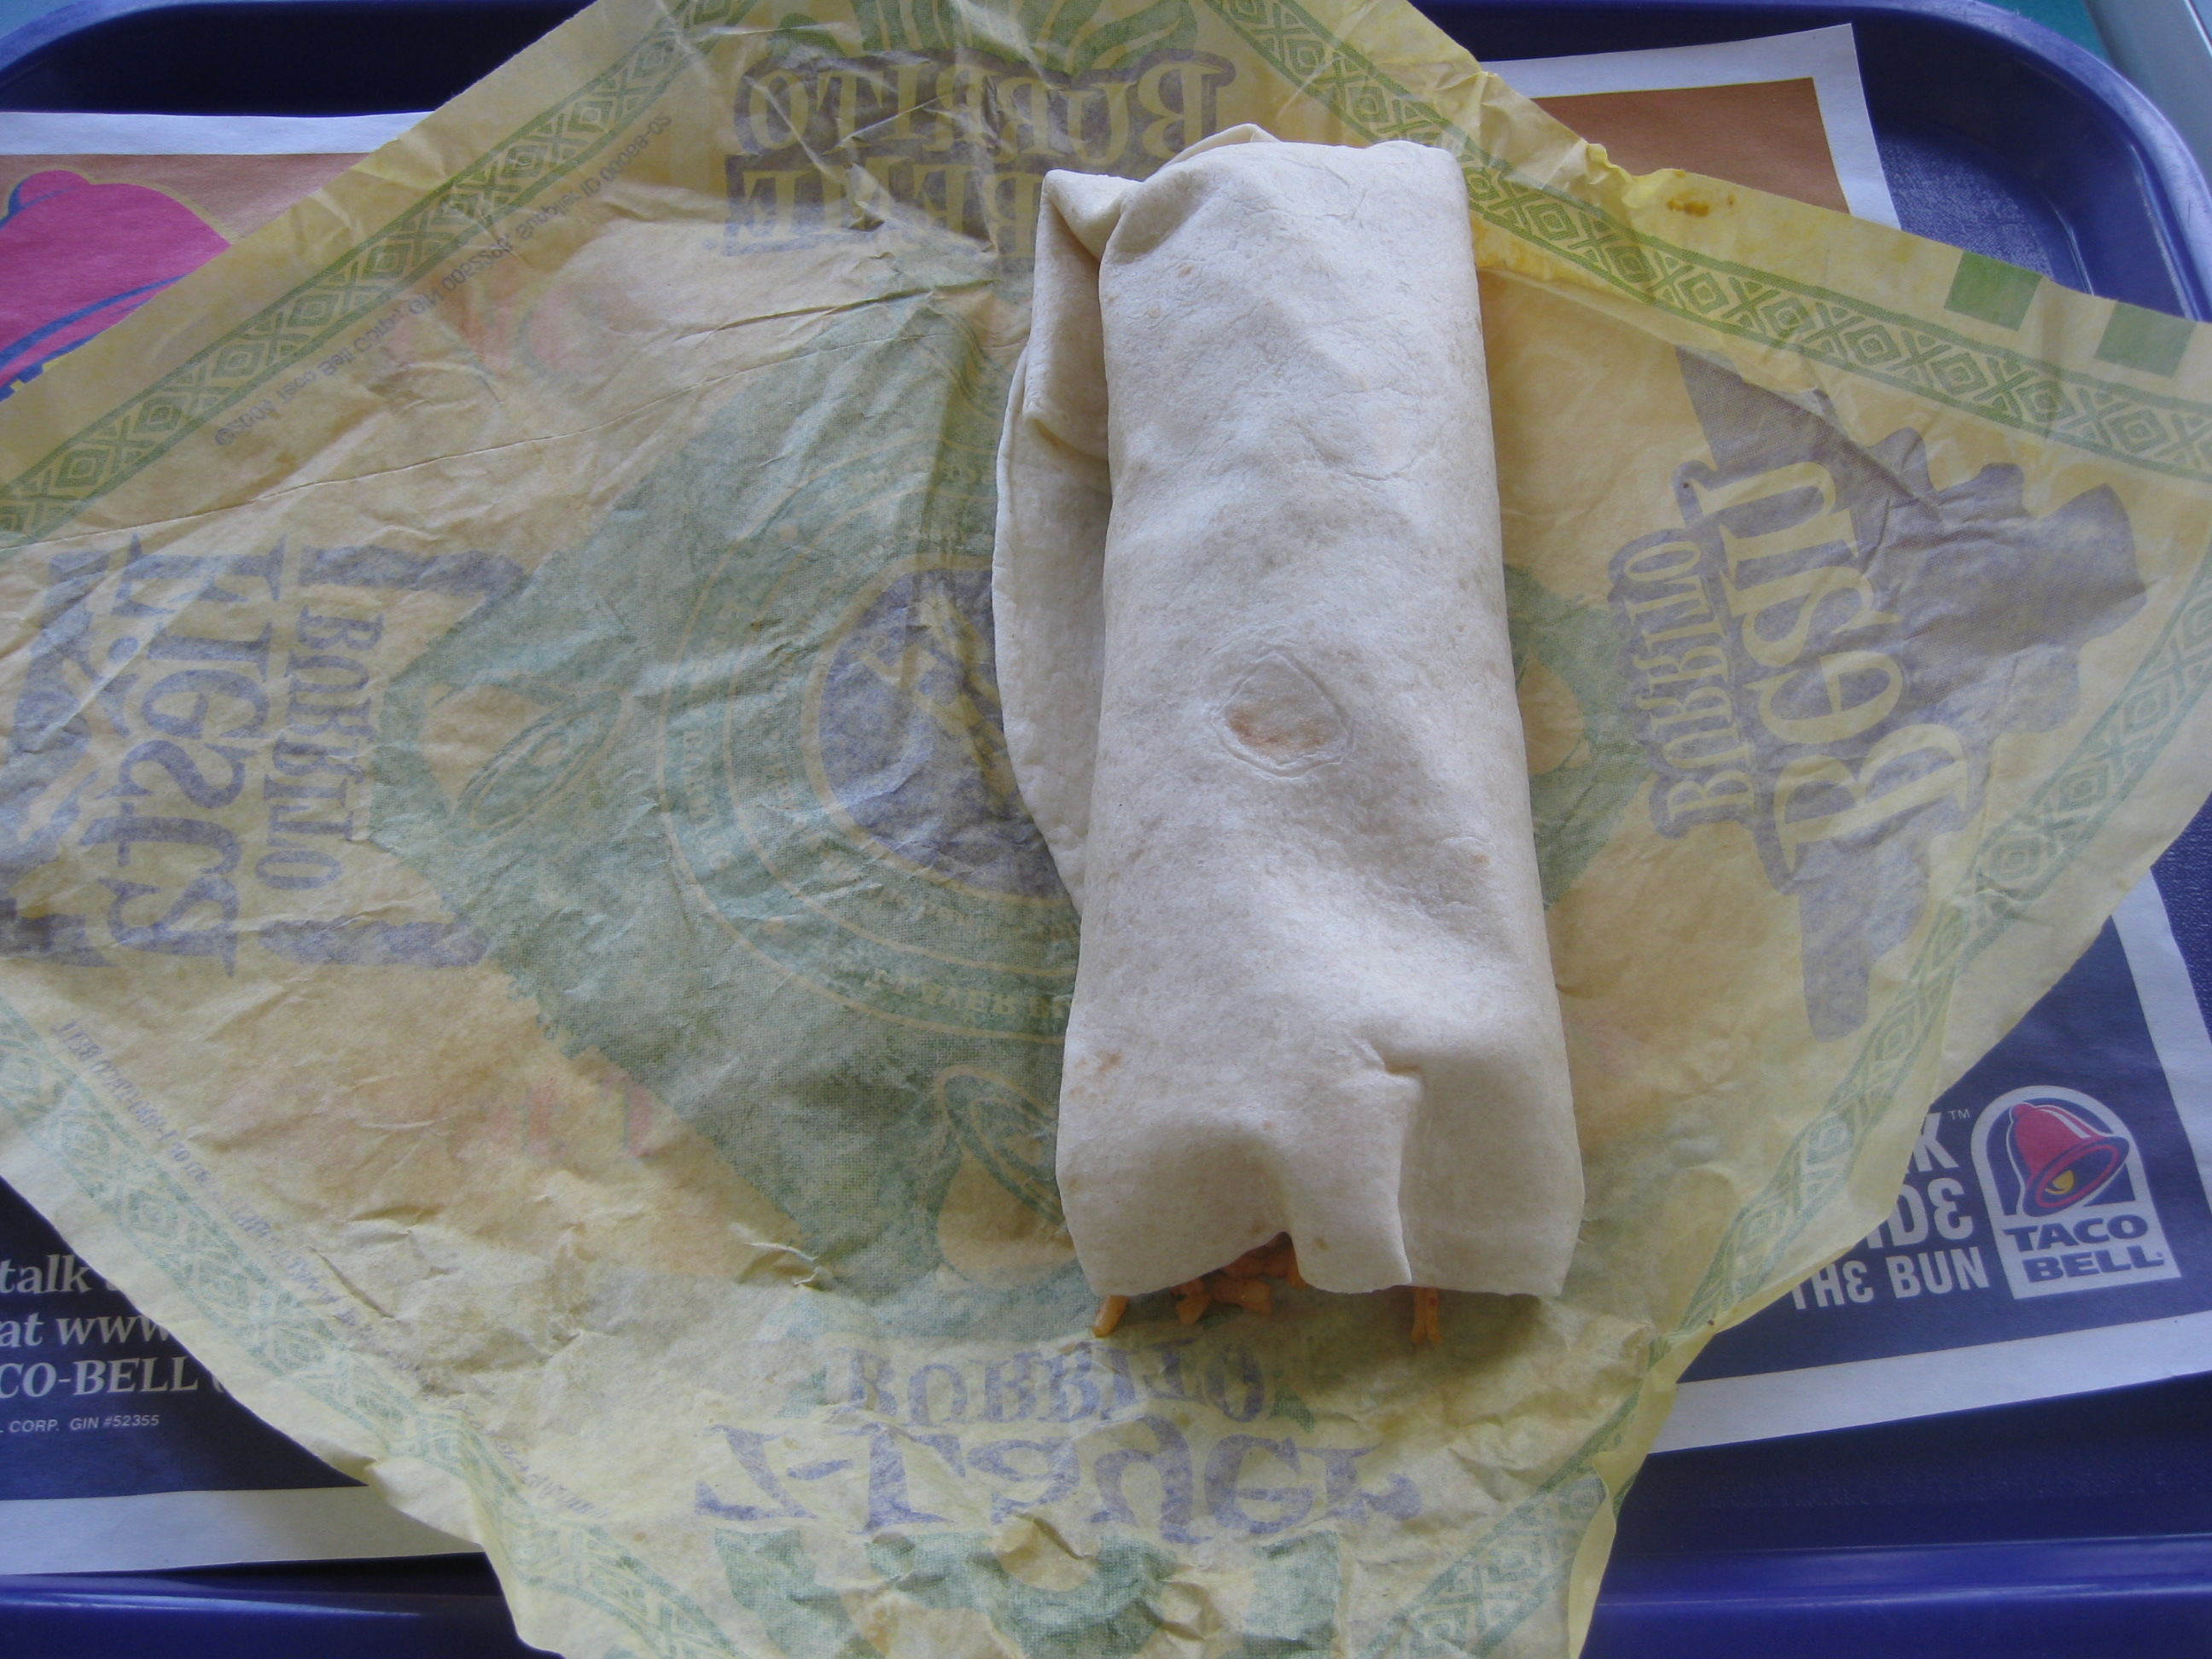burrito: (992, 102, 1761, 1377)
